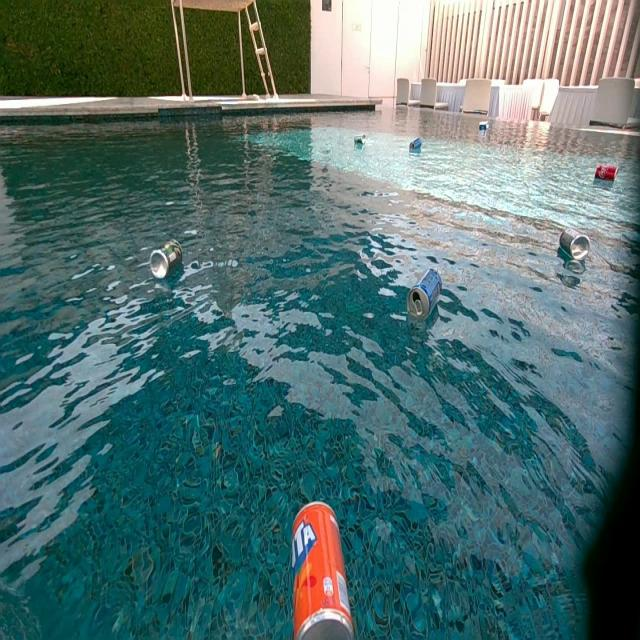Cans: (284, 500, 356, 640), (408, 266, 443, 321), (151, 242, 184, 281), (560, 230, 592, 260), (595, 165, 615, 182), (409, 138, 423, 152), (353, 136, 366, 150), (480, 121, 489, 130)
